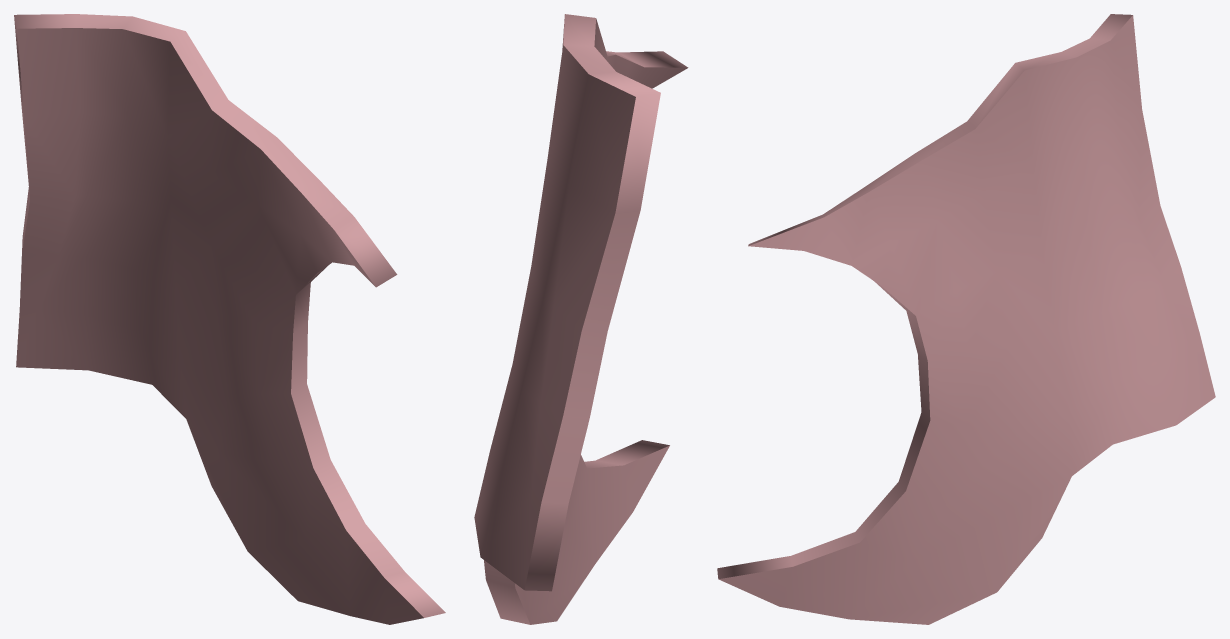
The picture shows the model from 3 angles, left to right: view 1: azimuth 30°, elevation 25°; view 2: azimuth 150°, elevation 25°; view 3: azimuth 270°, elevation 25°; orthographic projection. The views are drawn at different scales.
Parts seen in each view (by area): view 1: ZA_2195797355c311d7; view 2: ZA_2195797355c311d7; view 3: ZA_2195797355c311d7.
Boxes of the visible parts, x1,y1,x2,y2 form: ZA_2195797355c311d7: (14,14,445,624); ZA_2195797355c311d7: (474,14,688,624); ZA_2195797355c311d7: (717,14,1215,624).
Size of the model in its own units: 0.0299 by 0.0706 by 0.0613.
